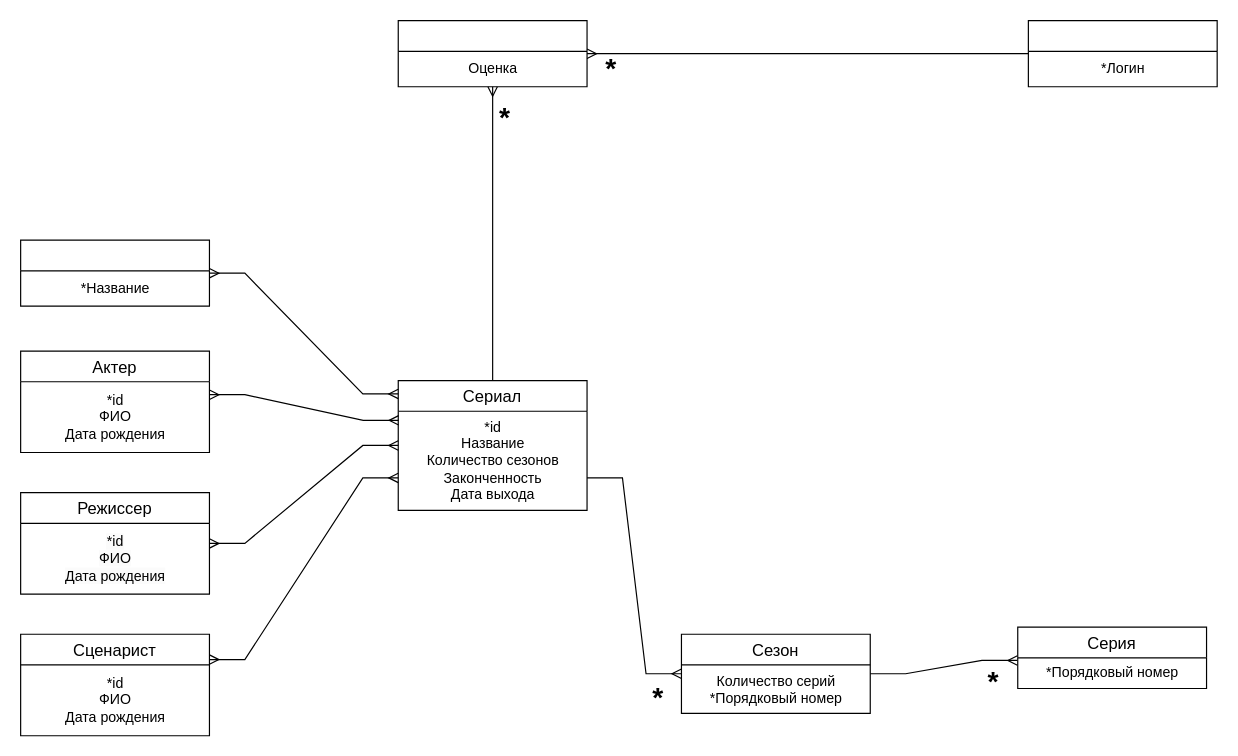
This 1238x756 diagram has some shape labels left out. The shapes that lost their labels are listed below. From the top down, each one's box as (x1, y1, x2, y2) in pixels, then its label:
(397, 19, 587, 87): Рейтинг сериала
(1027, 19, 1217, 87): Пользователь
(19, 239, 209, 306): Жанр
